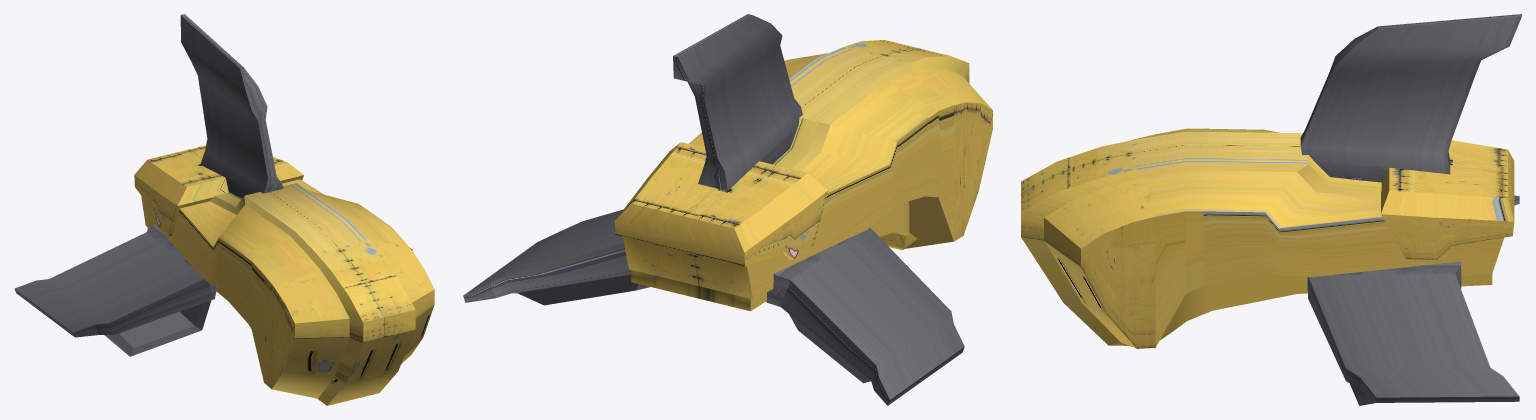
Rendered from team1_bomber.obj.
The picture shows the model from 3 angles, left to right: view 1: azimuth 30°, elevation 25°; view 2: azimuth 150°, elevation 25°; view 3: azimuth 270°, elevation 25°; orthographic projection. The views are drawn at different scales.
Visible parts, largest first — view 1: pCube2, pCube8, pCube3, pCube4; view 2: pCube2, pCube8, pCube4, pCube3, pasted__pCube8 group; view 3: pCube2, pCube3, pasted__pCube8 group, pCube4.
Boxes of the visible parts, x1,y1,x2,y2 form: pCube2: [141, 179, 434, 405]; pCube8: [14, 224, 217, 356]; pCube3: [180, 14, 283, 198]; pCube4: [134, 145, 303, 235]; pCube2: [623, 40, 992, 311]; pCube8: [766, 228, 964, 405]; pCube4: [614, 142, 828, 266]; pCube3: [673, 14, 802, 190]; pasted__pCube8 group: [463, 209, 649, 305]; pCube2: [1021, 128, 1503, 348]; pCube3: [1300, 14, 1521, 182]; pasted__pCube8 group: [1307, 261, 1519, 405]; pCube4: [1381, 140, 1514, 259].
Size of the model in its own units: 11.23 by 8.34 by 11.85.
